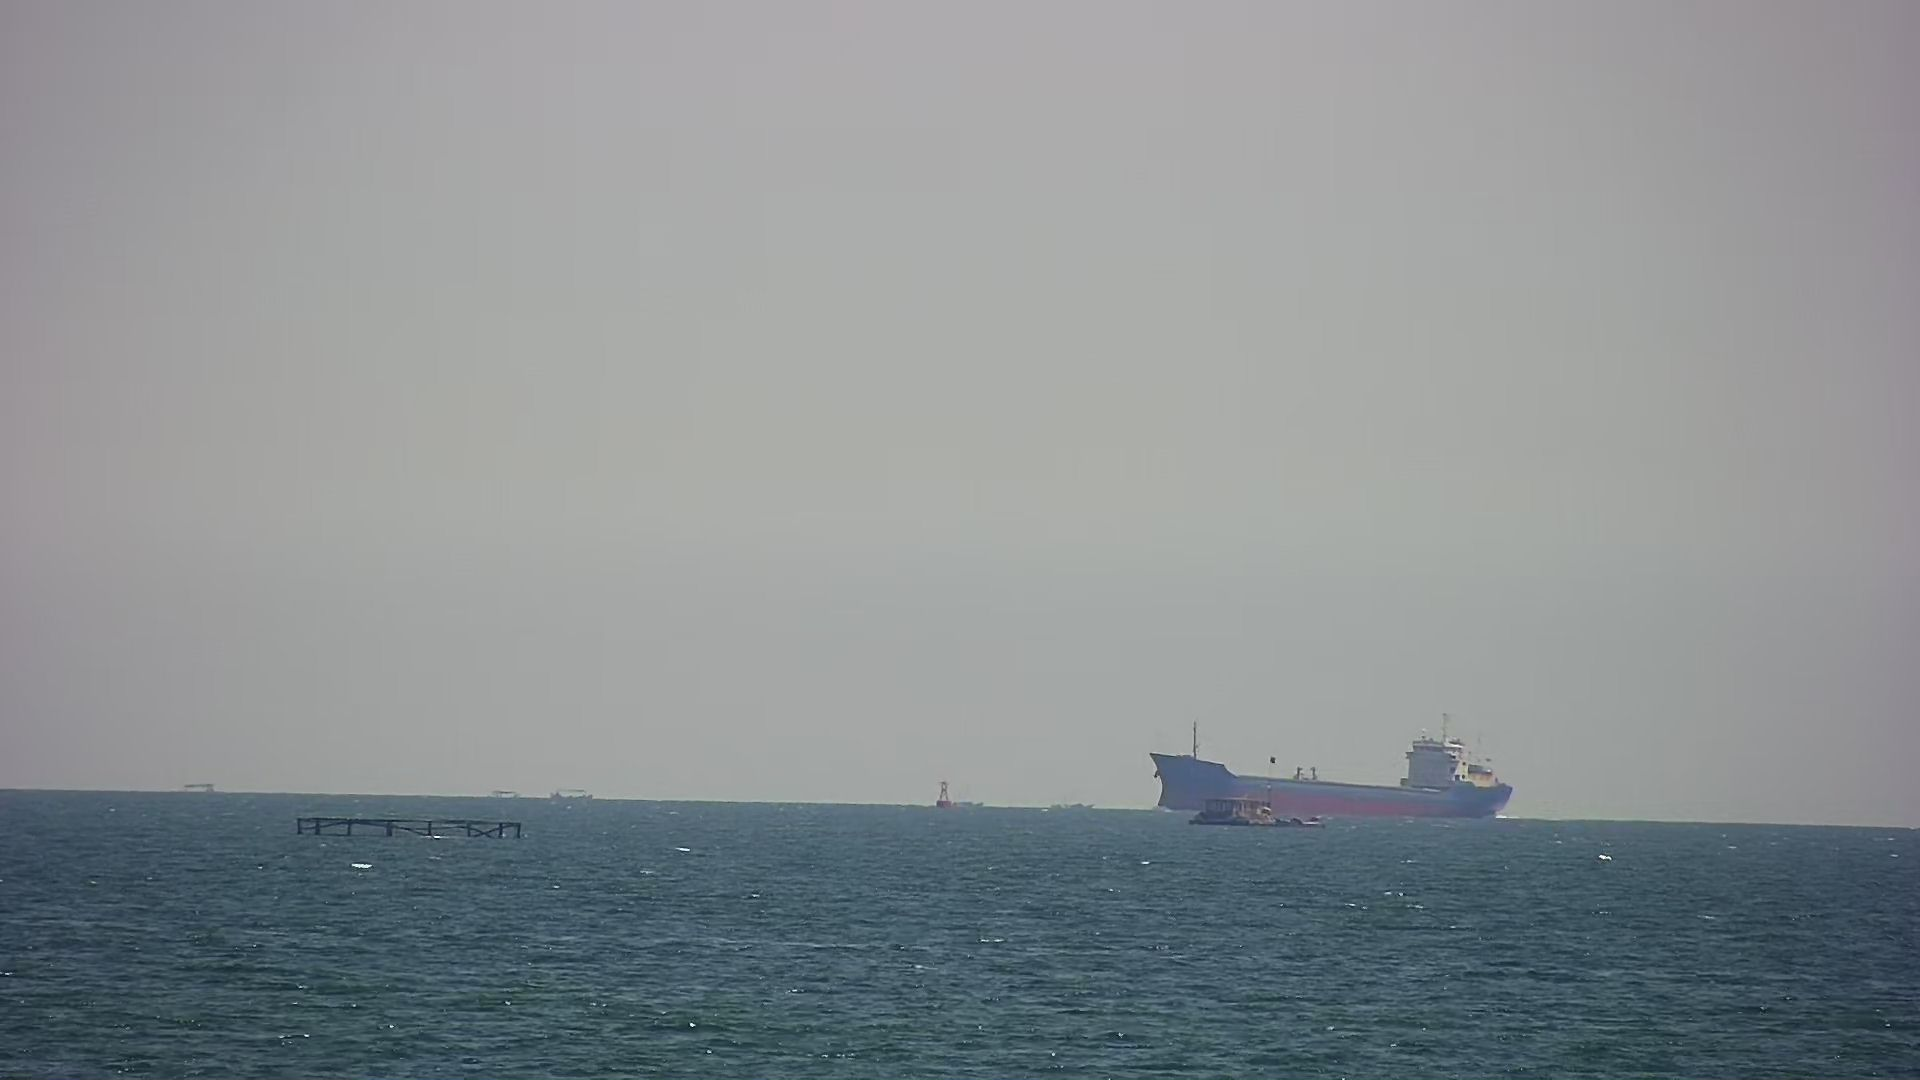platform: (1182, 785, 1348, 837), (286, 814, 539, 847), (551, 778, 601, 803), (928, 771, 955, 815), (175, 774, 220, 799), (483, 785, 521, 800)
ship: (1143, 727, 1520, 825)
